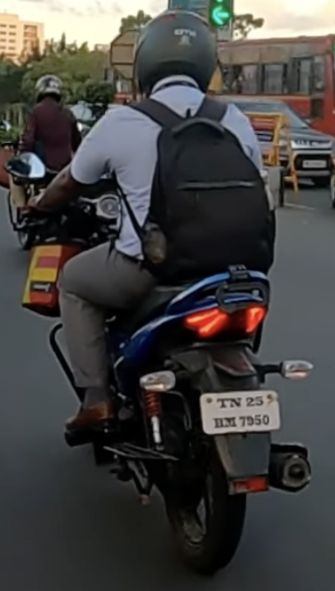motor: (14, 201, 320, 572)
number: (200, 392, 282, 430)
with helmet: (130, 11, 217, 94)
